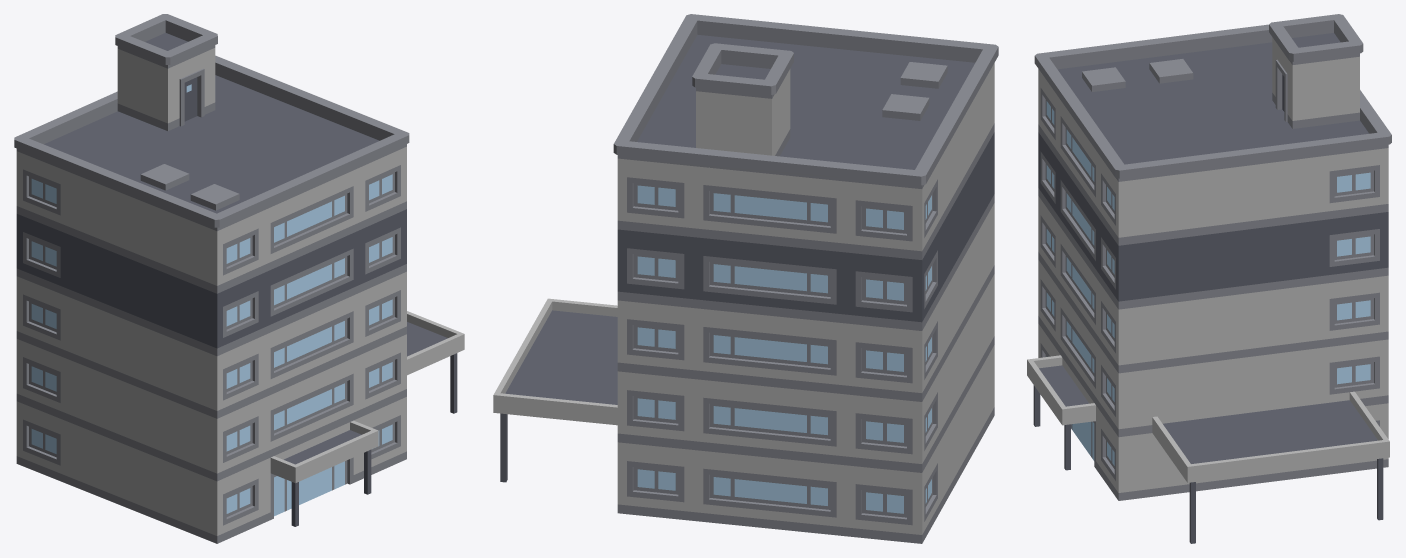
File: large_buildingG.003.obj
3 renders of one model, left to right at view 1: azimuth 30°, elevation 25°; view 2: azimuth 150°, elevation 25°; view 3: azimuth 270°, elevation 25°, orthographic. The views are drawn at different scales.
Visible parts, largest first — view 1: large_buildingG.001; view 2: large_buildingG.001; view 3: large_buildingG.001.
Boxes of the visible parts, <box> form: large_buildingG.001: <box>14,14,464,543</box>; large_buildingG.001: <box>493,14,998,543</box>; large_buildingG.001: <box>1027,14,1391,543</box>.
Size of the model in its own units: 38.63 by 36.52 by 30.52.
